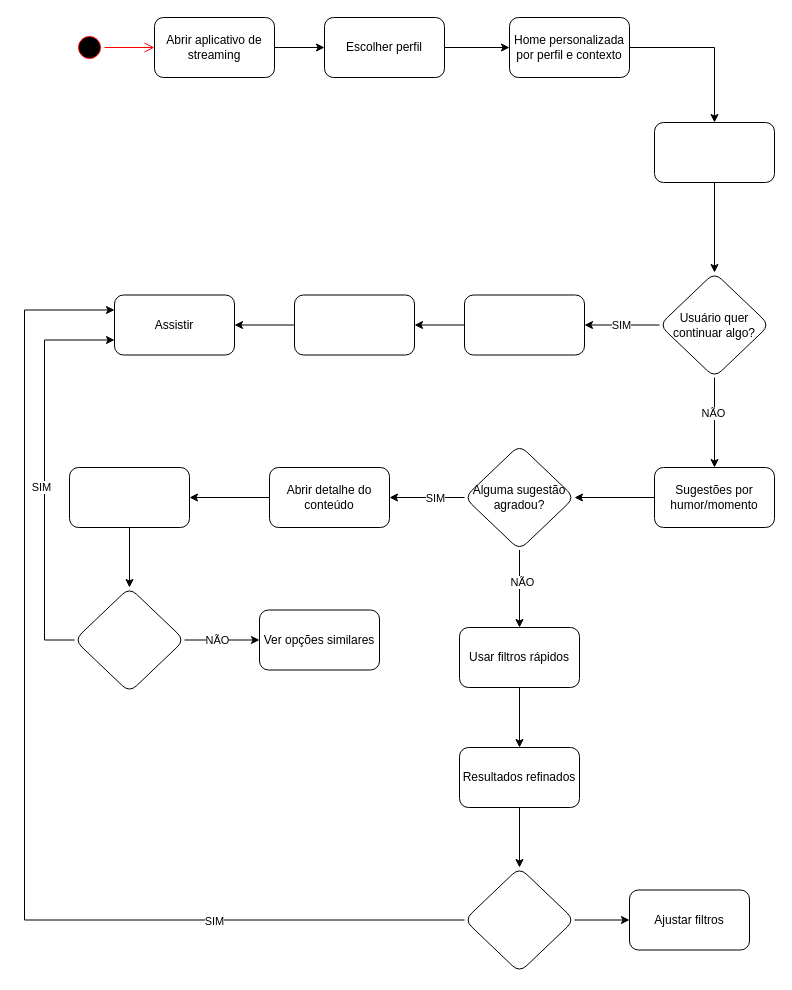
The diagram is 792 pixels wide and 990 high, and some of its shapes have lost their labels. Here are the shapes that lost their labels. From the top down, the box of each, then its label:
(654, 122, 774, 182): Destaque principal: “Continue assistindo”
(294, 294, 414, 355): Retomar automaticamente de onde parou
(464, 294, 584, 355): Selecionar conteúdo
(68, 466, 190, 528): Explicação da recomendação
(74, 586, 184, 692): Confiante para assistir?
(464, 866, 574, 972): Encontrou algo?
